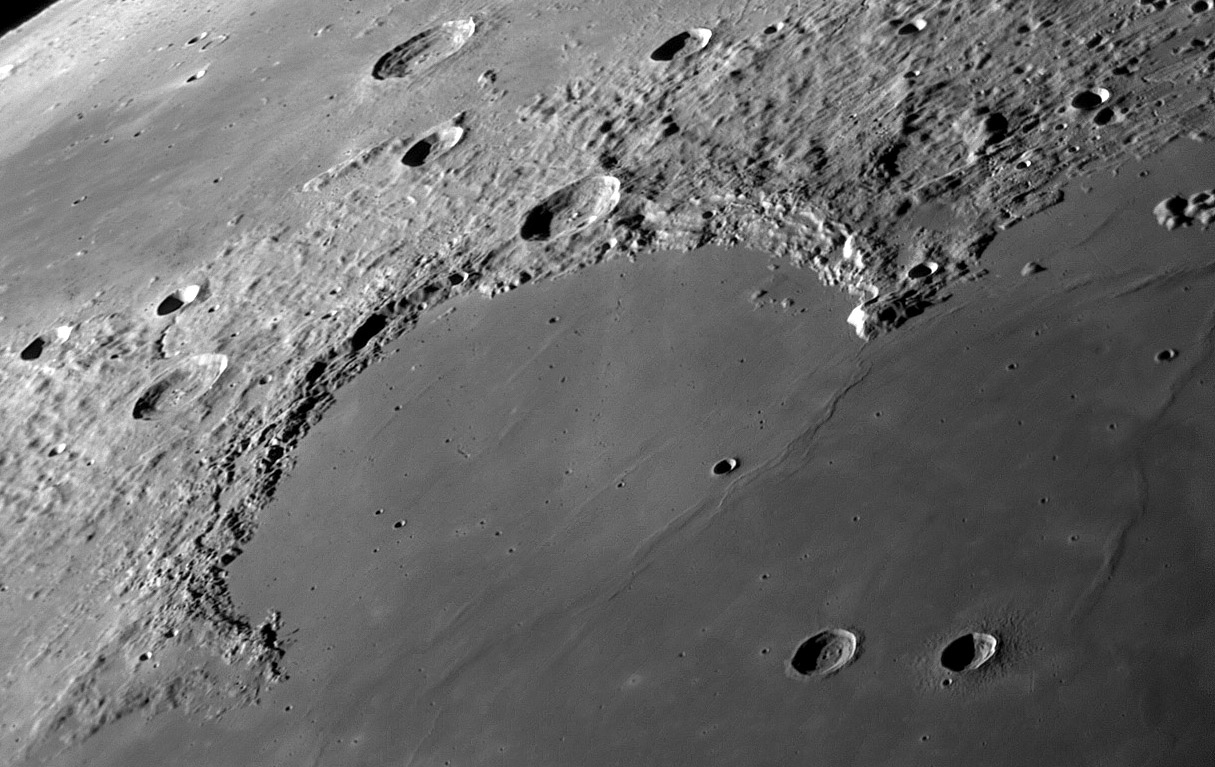crater: (583, 367, 898, 612), (705, 548, 906, 738), (464, 154, 723, 300), (281, 5, 542, 104), (106, 345, 259, 459), (126, 246, 256, 334), (1128, 298, 1201, 429), (157, 54, 242, 123)
